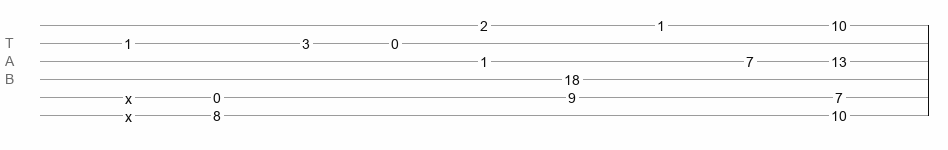0: (213, 90, 221, 100), (391, 36, 399, 46)
1: (124, 36, 132, 46), (480, 54, 488, 64), (657, 18, 665, 28)
10: (831, 18, 847, 28), (831, 108, 847, 118)
13: (831, 54, 847, 64)
18: (564, 72, 580, 82)
2: (480, 18, 488, 28)
3: (302, 36, 310, 46)
7: (746, 54, 754, 64), (835, 90, 843, 100)
8: (213, 108, 221, 118)
9: (568, 90, 576, 100)
x: (125, 109, 132, 117), (125, 91, 132, 99)
